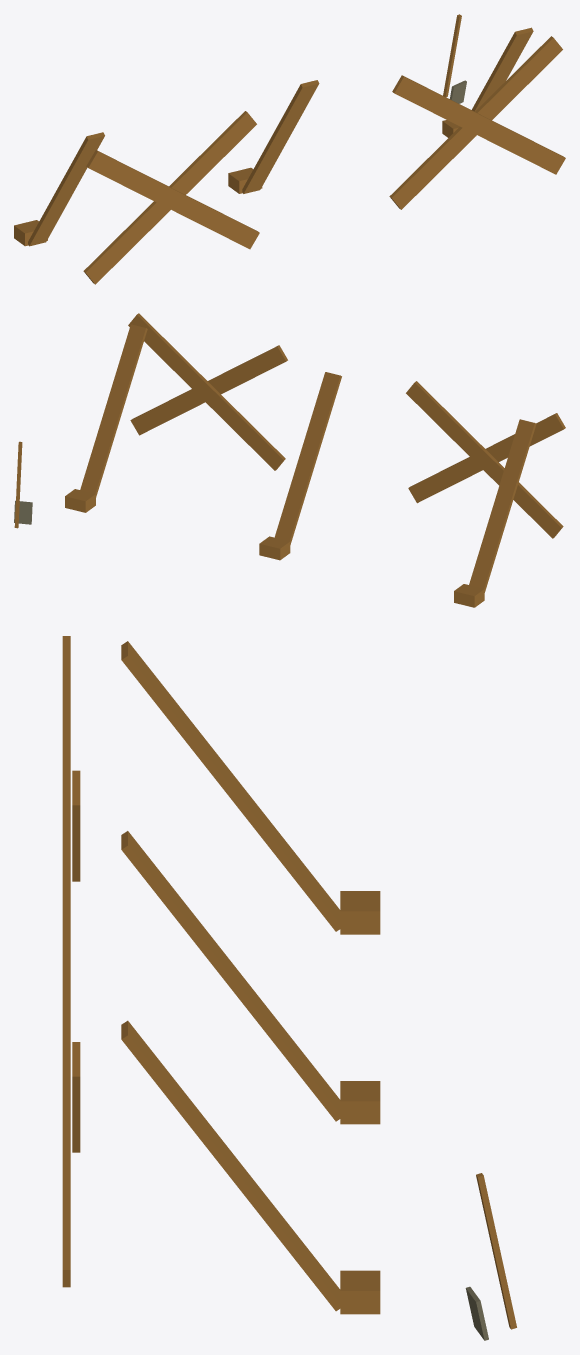
File: SM_ObraPuertaApuntalada_v1_8m_LOD0.fbx
The picture shows the model from 3 angles, top to bottom: view 1: azimuth 30°, elevation 25°; view 2: azimuth 150°, elevation 25°; view 3: azimuth 270°, elevation 25°; orthographic projection. The views are drawn at different scales.
Visible parts, largest first — view 1: SM_obra_curso_v32_LOD0; view 2: SM_obra_curso_v32_LOD0; view 3: SM_obra_curso_v32_LOD0.
Boxes of the visible parts, <box> form: SM_obra_curso_v32_LOD0: <box>14,14,565,284</box>; SM_obra_curso_v32_LOD0: <box>14,313,565,607</box>; SM_obra_curso_v32_LOD0: <box>62,636,516,1340</box>.
Bounding box in the file's own units: 6.44 × 1.92 × 2.83.
